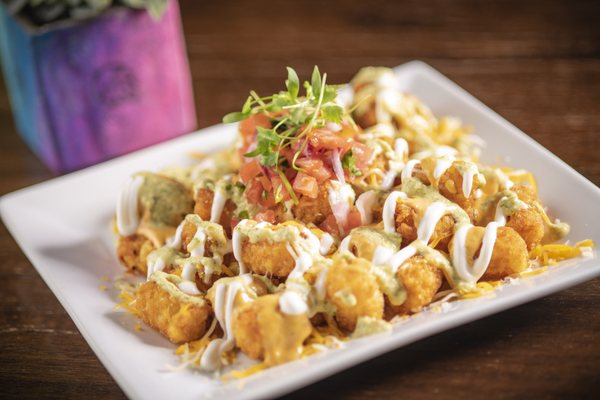pizza: (0, 1, 199, 176)
sushi: (42, 60, 597, 391)
